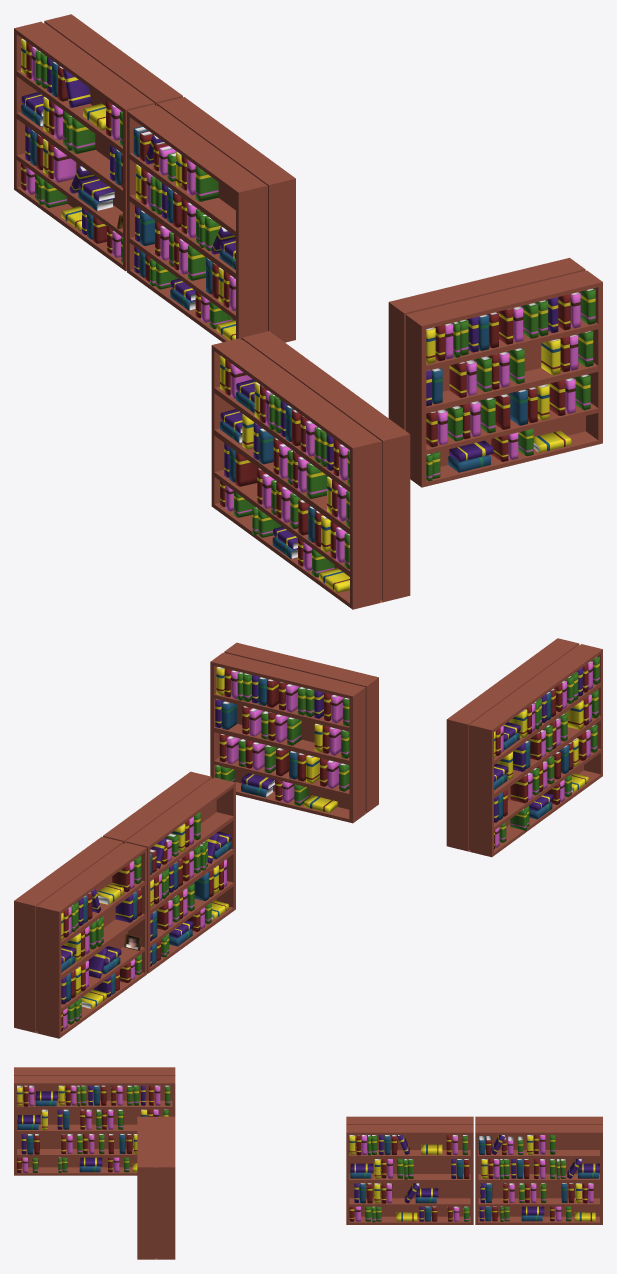
The model's file is bookshelves.fbx.
3 renders of one model, top to bottom at view 1: azimuth 30°, elevation 25°; view 2: azimuth 150°, elevation 25°; view 3: azimuth 270°, elevation 25°, orthographic. The views are drawn at different scales.
Parts seen in each view (by area): view 1: Cube.104; view 2: Cube.104; view 3: Cube.104.
Part boxes in pixels (left/top/right/bottom): Cube.104: left=14, top=14, right=602, bottom=609; Cube.104: left=14, top=638, right=602, bottom=1038; Cube.104: left=14, top=1067, right=602, bottom=1259.
Bounding box in the file's own units: 663 × 285 × 1649.
